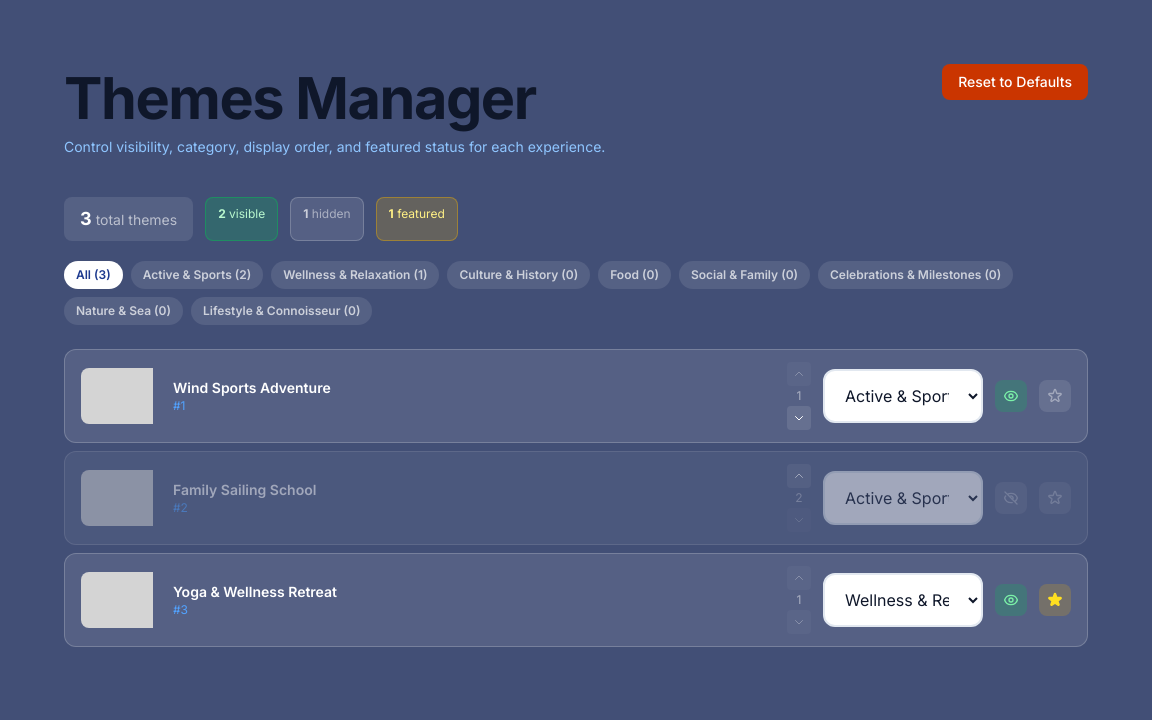
Scenario: ThemesAdminClient — category filter tabs › clicking All tab restores all rows
Expected: the text "Wind Sports Adventure" is shown, [173,379,331,396]
Click the button "Wellness & Relaxation (1)": [355, 275] box [271,261,440,289]
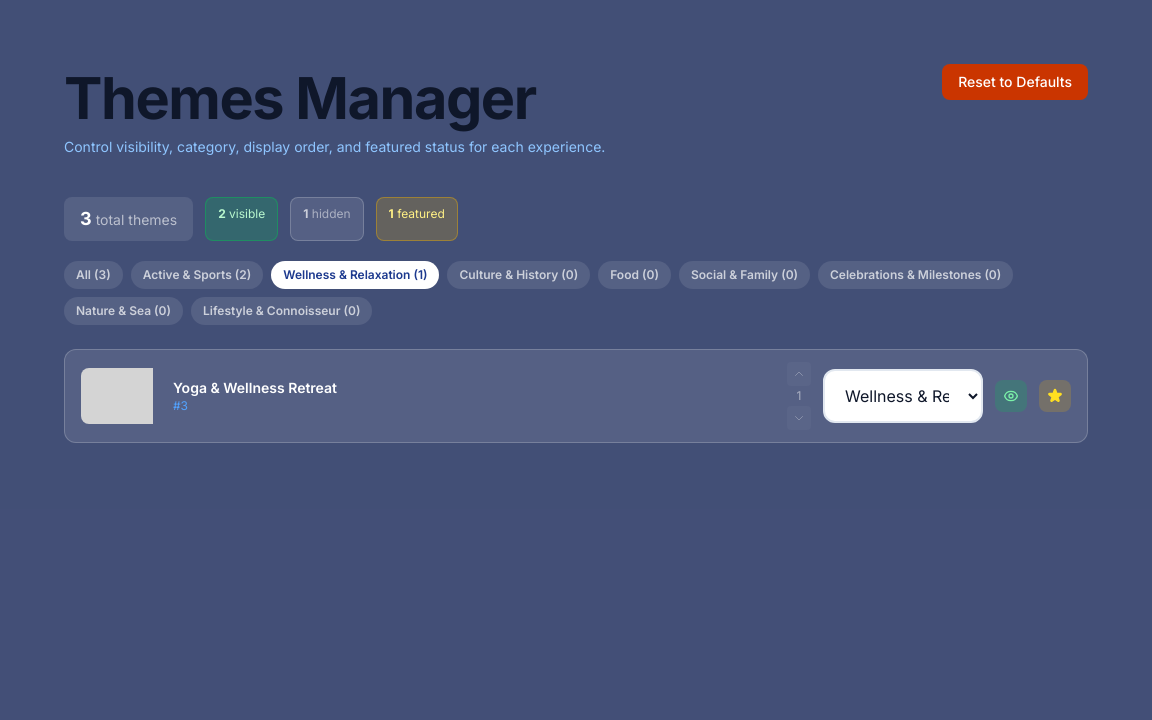
Click the button "All (3)": [93, 275] box [64,261,123,289]
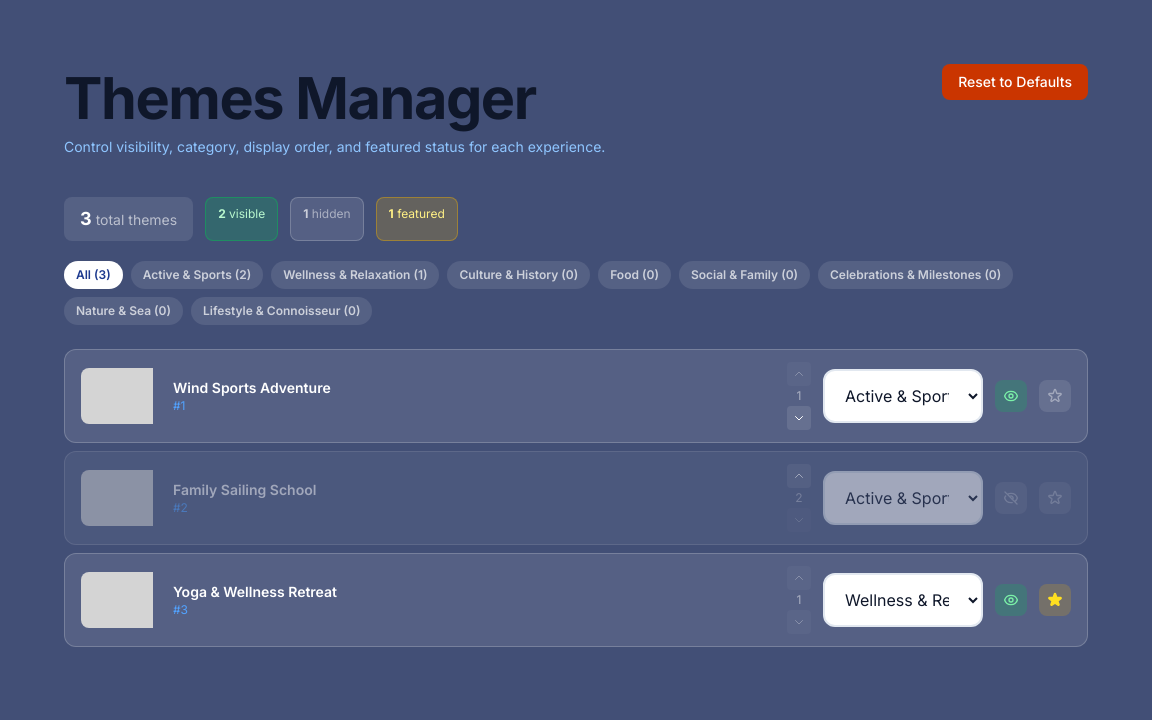
Expected: the text "Yoga & Wellness Retreat" is shown, [173,583,337,600]
Expected: the text "Wind Sports Adventure" is shown, [173,379,331,396]
